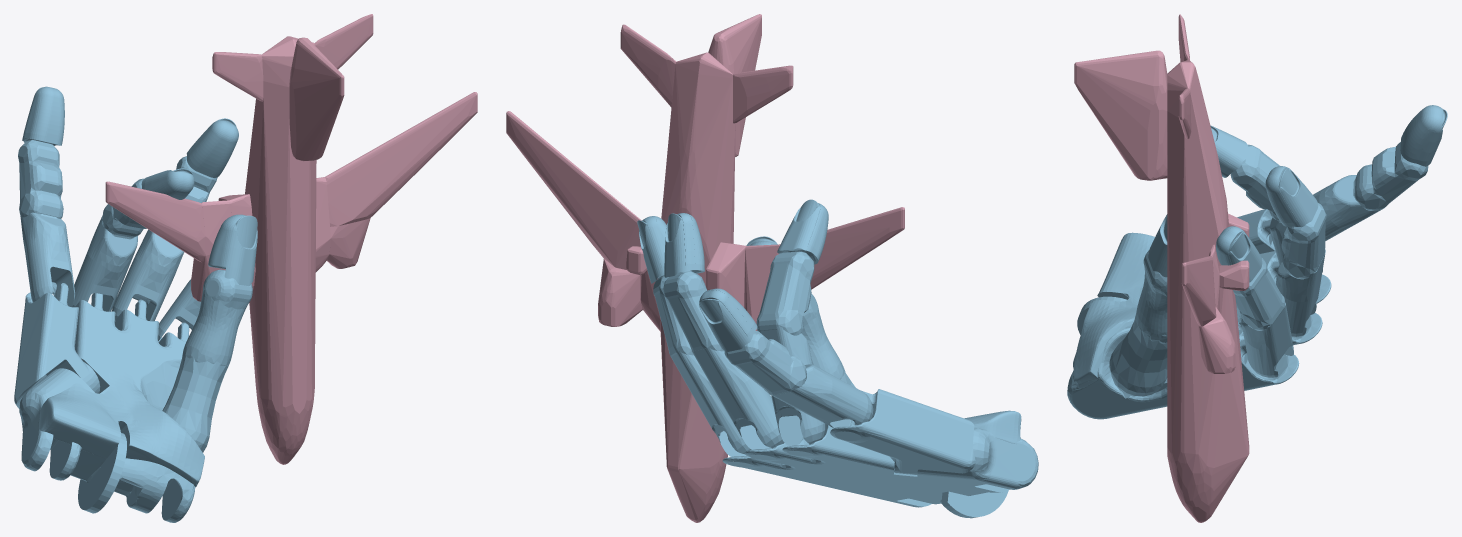
The picture shows the model from 3 angles, left to right: view 1: azimuth 30°, elevation 25°; view 2: azimuth 150°, elevation 25°; view 3: azimuth 270°, elevation 25°; orthographic projection. The views are drawn at different scales.
Visible parts, largest first — view 1: hand_isaac_q, world; view 2: hand_isaac_q, world; view 3: hand_isaac_q, world.
Boxes of the visible parts, box(x1,y1,x2,y2) form: hand_isaac_q: box(14, 86, 257, 522); world: box(105, 14, 477, 464); hand_isaac_q: box(637, 199, 1038, 518); world: box(506, 14, 904, 522); hand_isaac_q: box(1067, 105, 1447, 419); world: box(1074, 14, 1249, 522).
Bounding box in the file's own units: 0.2467 × 0.2206 × 0.1614.
